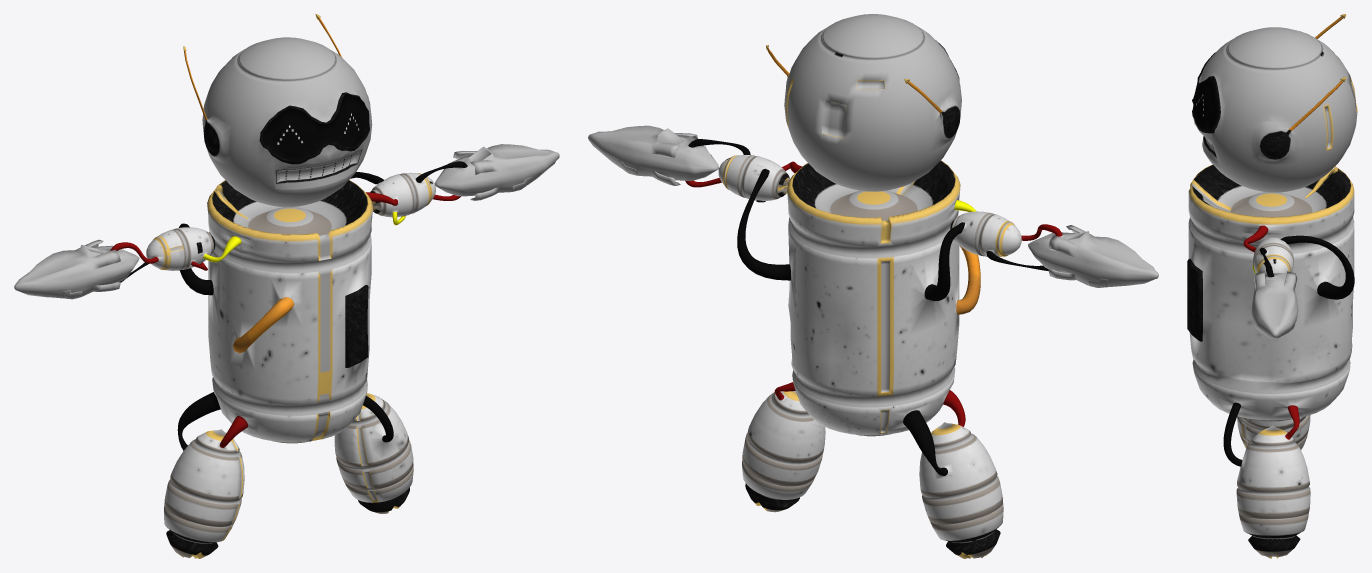
File: Robot.glb
3 views of the same model, side by side, from view 1: azimuth 30°, elevation 25°; view 2: azimuth 150°, elevation 25°; view 3: azimuth 270°, elevation 25° (orthographic). The views are drawn at different scales.
Visible parts, largest first — view 1: Body; view 2: Body; view 3: Body.
Part boxes in pixels (x1=…): Body: x1=14, y1=14, x2=559, y2=558; Body: x1=588, y1=14, x2=1158, y2=558; Body: x1=1187, y1=14, x2=1357, y2=558.
Size of the model in its own units: 7.4 by 6.35 by 2.06.
Materials: 1 (1 with a texture image).
